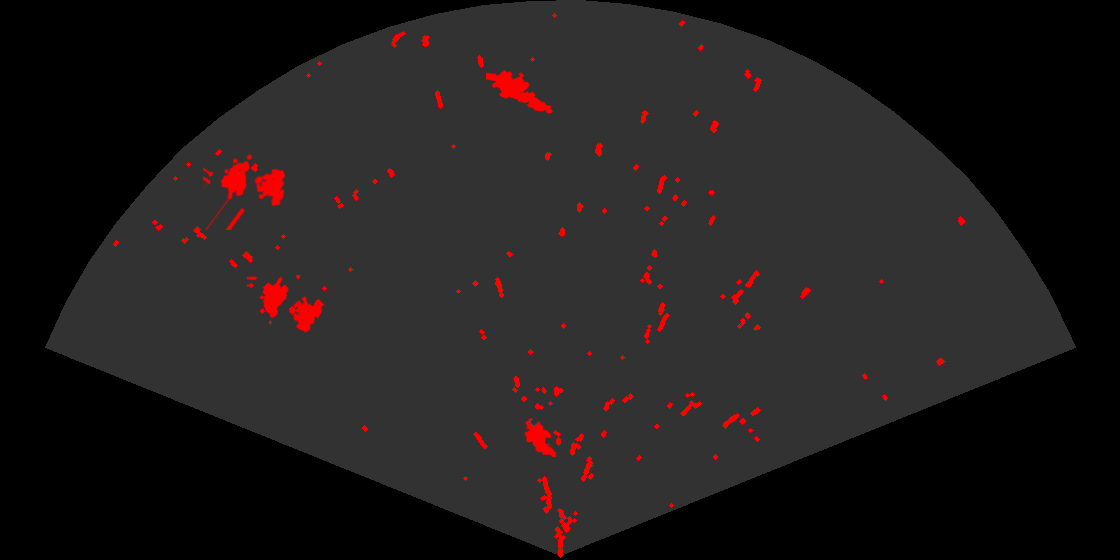AUV: (523, 416, 558, 459)
cage: (203, 153, 287, 230), (247, 275, 326, 334)
frogman: (486, 69, 555, 115)
